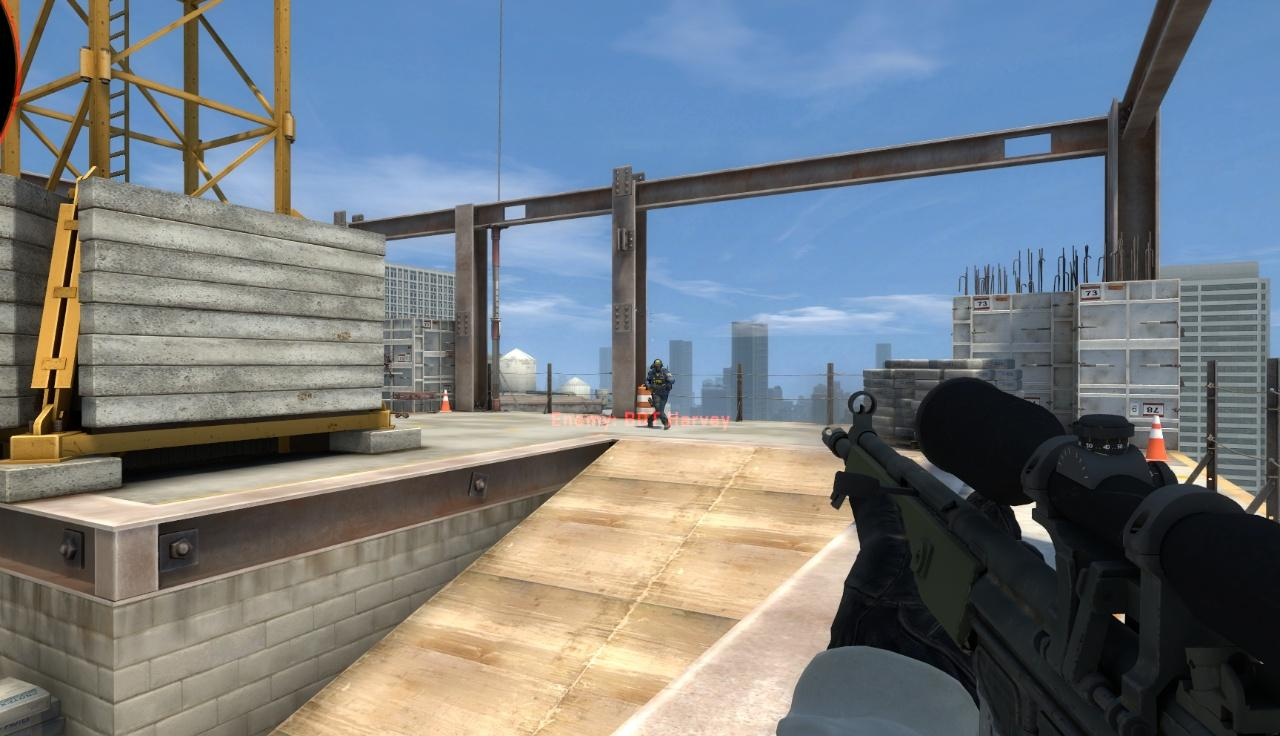ct: (647, 358, 673, 430)
cthead: (652, 359, 663, 371)
sniper: (819, 375, 1280, 736)
